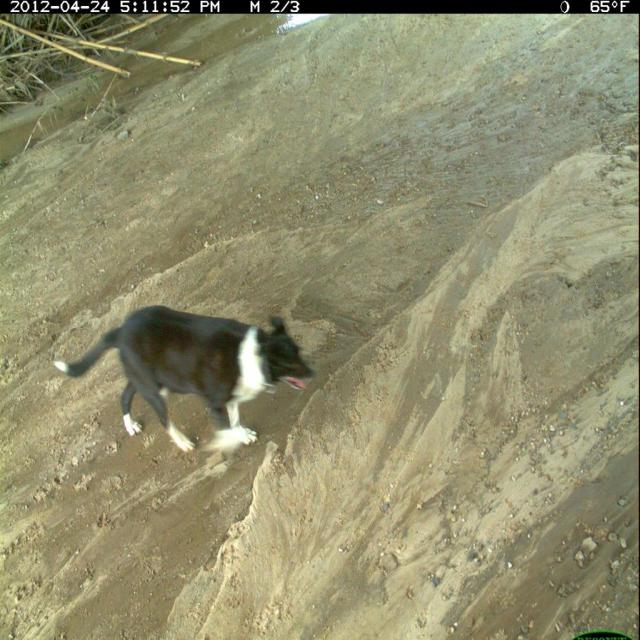dog: (49, 301, 320, 458)
